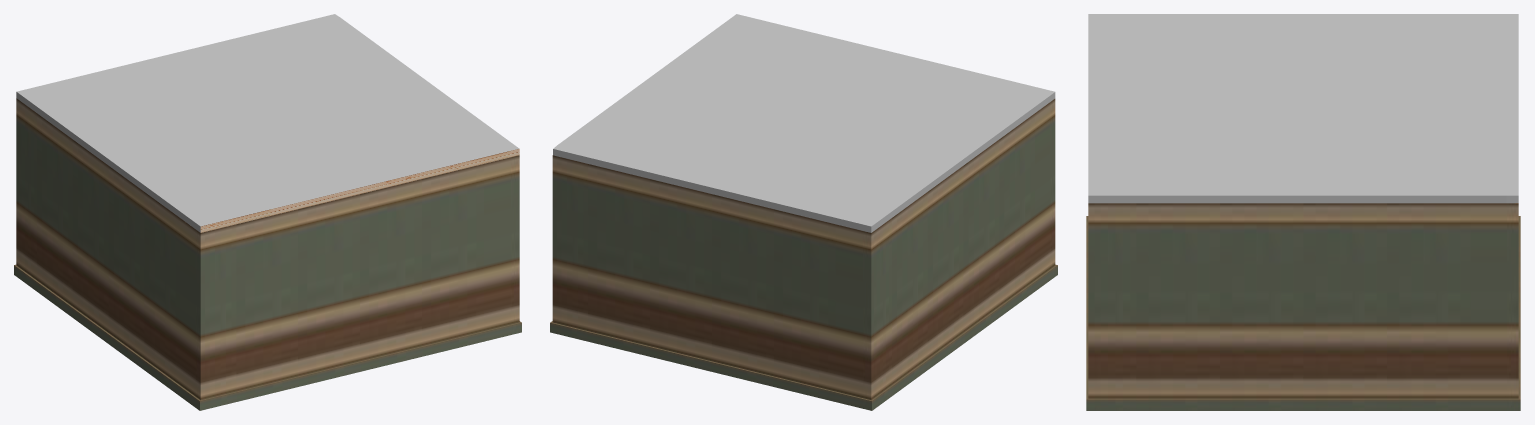
File: websiteRoomClosed.gltf
The picture shows the model from 3 angles, left to right: view 1: azimuth 30°, elevation 25°; view 2: azimuth 150°, elevation 25°; view 3: azimuth 270°, elevation 25°; orthographic projection. The views are drawn at different scales.
Visible parts, largest first — view 1: Cube.023, Cube.111, Cube.113, Cube.112, Cube.114, Cube.109, Cube.018, Cube.012, Cube.011, Cube.019, Cube.110, Cube.010; view 2: Cube.023, Cube.016, Cube.014, Cube.015, Cube.017, Cube.010, Cube.012, Cube.018, Cube.019, Cube.011, Cube.009, Cube.109; view 3: Cube.023, Cube.024, Cube.013, Cube.025, Cube.026, Cube.009, Cube.110.
Boxes of the visible parts, bbox=[...] form: Cube.023: bbox=[16, 14, 519, 232]; Cube.111: bbox=[236, 209, 298, 401]; Cube.113: bbox=[360, 179, 422, 371]; Cube.112: bbox=[298, 194, 360, 386]; Cube.114: bbox=[422, 164, 484, 356]; Cube.109: bbox=[178, 218, 236, 410]; Cube.018: bbox=[107, 166, 144, 368]; Cube.012: bbox=[71, 139, 108, 342]; Cube.011: bbox=[35, 113, 72, 316]; Cube.019: bbox=[142, 192, 179, 394]; Cube.110: bbox=[484, 155, 521, 341]; Cube.010: bbox=[14, 98, 36, 289]; Cube.023: bbox=[553, 14, 1055, 232]; Cube.016: bbox=[711, 194, 773, 386]; Cube.014: bbox=[587, 164, 649, 356]; Cube.015: bbox=[649, 179, 711, 371]; Cube.017: bbox=[773, 209, 835, 401]; Cube.010: bbox=[835, 218, 893, 410]; Cube.012: bbox=[927, 166, 964, 368]; Cube.018: bbox=[963, 139, 1000, 342]; Cube.019: bbox=[999, 113, 1036, 316]; Cube.011: bbox=[892, 192, 929, 394]; Cube.009: bbox=[550, 155, 587, 341]; Cube.109: bbox=[1035, 99, 1057, 290]; Cube.023: bbox=[1088, 14, 1518, 203]; Cube.024: bbox=[1387, 203, 1470, 410]; Cube.013: bbox=[1303, 203, 1386, 410]; Cube.025: bbox=[1220, 203, 1303, 410]; Cube.026: bbox=[1136, 203, 1219, 410]; Cube.009: bbox=[1470, 203, 1520, 410]; Cube.110: bbox=[1086, 203, 1136, 410].
Bounding box in the file's own units: 15.6 × 8.49 × 15.6.
